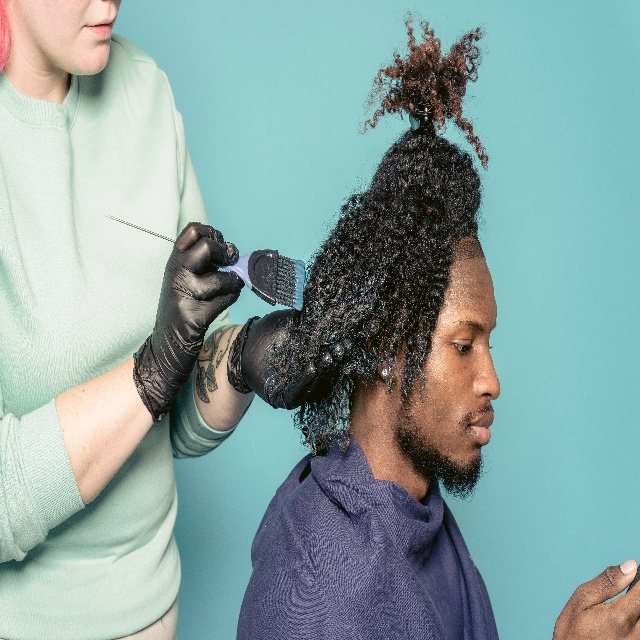Guantes: (131, 221, 246, 424), (228, 312, 352, 410)
Sin_guantes: (552, 558, 640, 640)
